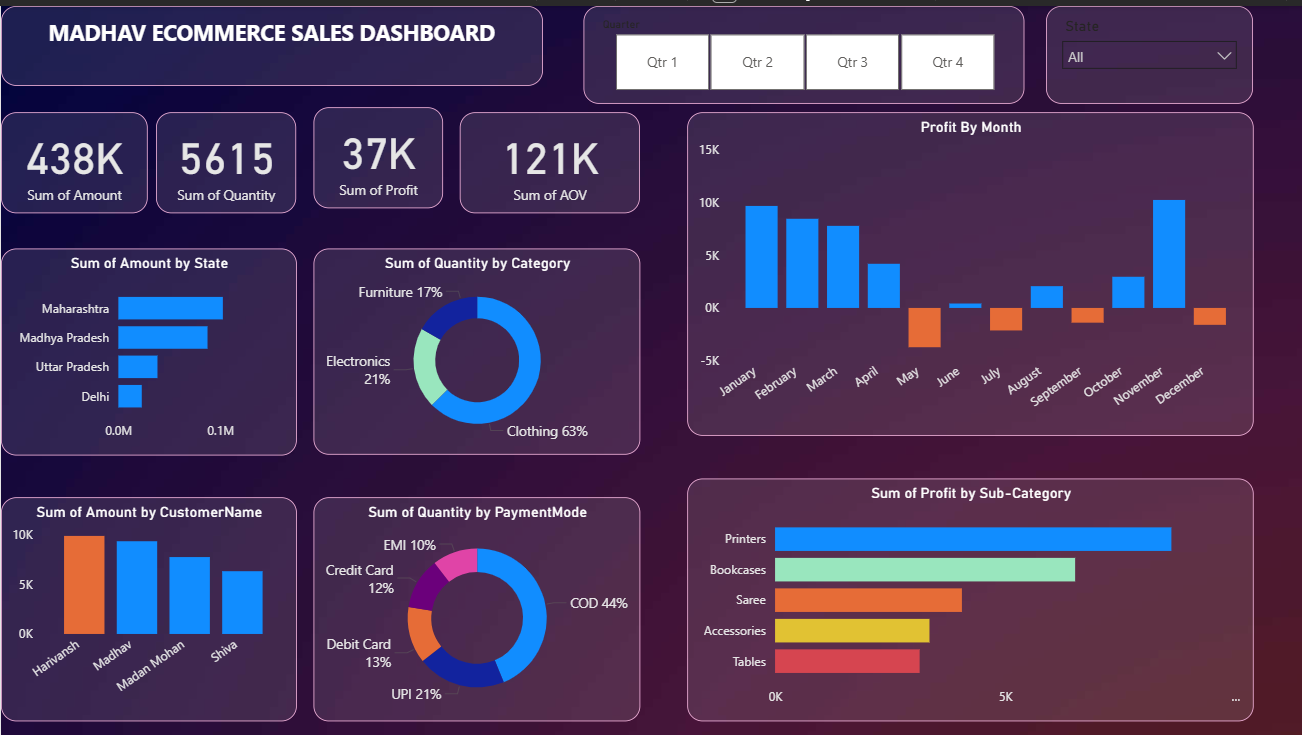

Layout of this report page (visuals, bound fields, positions):
{"tool":"powerbi","page":{"name":"Page 1","canvas":[1280,720],"ordinal":0},"visuals":[{"type":"textbox","box":[0,0,531.9,78],"z":0},{"type":"columnChart","title":"Profit By Month","fields":{"Y":["Sum(Details.Profit)"],"Category":["Orders.Order Date.Variation.Date Hierarchy.Month"]},"box":[673.6,104.4,556,317.6],"z":1000},{"type":"barChart","fields":{"Category":["Details.Sub-Category"],"Y":["Sum(Details.Profit)"]},"box":[673.6,463.7,556,238.5],"z":2000},{"type":"donutChart","fields":{"Category":["Details.Category"],"Y":["Sum(Details.Quantity)"]},"box":[306.6,238.5,320.9,202.2],"z":3000},{"type":"donutChart","fields":{"Category":["Details.PaymentMode"],"Y":["Sum(Details.Quantity)"]},"box":[306.6,482.4,320.9,219.8],"z":4000},{"type":"card","fields":{"Values":["Sum(Details.Amount)"]},"box":[0,104.4,144,98.9],"z":5000},{"type":"card","fields":{"Values":["Sum(Details.Quantity)"]},"box":[152.7,104.4,137.4,98.9],"z":6000},{"type":"card","fields":{"Values":["Sum(Details.Profit)"]},"box":[306.6,100,127.5,98.9],"z":7000},{"type":"card","fields":{"Values":["Sum(Details.AOV)"]},"box":[450.5,104.4,176.9,98.9],"z":8000},{"type":"barChart","fields":{"Category":["Orders.State"],"Y":["Sum(Details.Amount)"]},"box":[0,238.5,290.1,203.3],"z":9000},{"type":"columnChart","fields":{"Category":["Orders.CustomerName"],"Y":["Sum(Details.Amount)"]},"box":[0,482,290,220],"z":10000},{"type":"slicer","fields":{"Values":["Orders.Order Date.Variation.Date Hierarchy.Quarter"]},"box":[571.4,0,433,95.6],"z":11000},{"type":"slicer","fields":{"Values":["Orders.State"]},"box":[1026.4,0,203.3,95.6],"z":12000}]}

Visuals, with their boxes in screenshot pixels (x1, y1, x2, y2), scaled from the page's 1280x720 canvas onto the 1302x735 screenshot:
textbox: 0, 0, 541, 80
"Profit By Month" columnChart: 685, 107, 1251, 431
barChart - Details.Sub-Category x Sum(Details.Profit): 685, 473, 1251, 717
donutChart - Details.Category x Sum(Details.Quantity): 312, 243, 638, 450
donutChart - Details.PaymentMode x Sum(Details.Quantity): 312, 492, 638, 717
card - Sum(Details.Amount): 0, 107, 146, 208
card - Sum(Details.Quantity): 155, 107, 295, 208
card - Sum(Details.Profit): 312, 102, 442, 203
card - Sum(Details.AOV): 458, 107, 638, 208
barChart - Orders.State x Sum(Details.Amount): 0, 243, 295, 451
columnChart - Orders.CustomerName x Sum(Details.Amount): 0, 492, 295, 717
slicer - Orders.Order Date.Variation.Date Hierarchy.Quarter: 581, 0, 1022, 98
slicer - Orders.State: 1044, 0, 1251, 98
